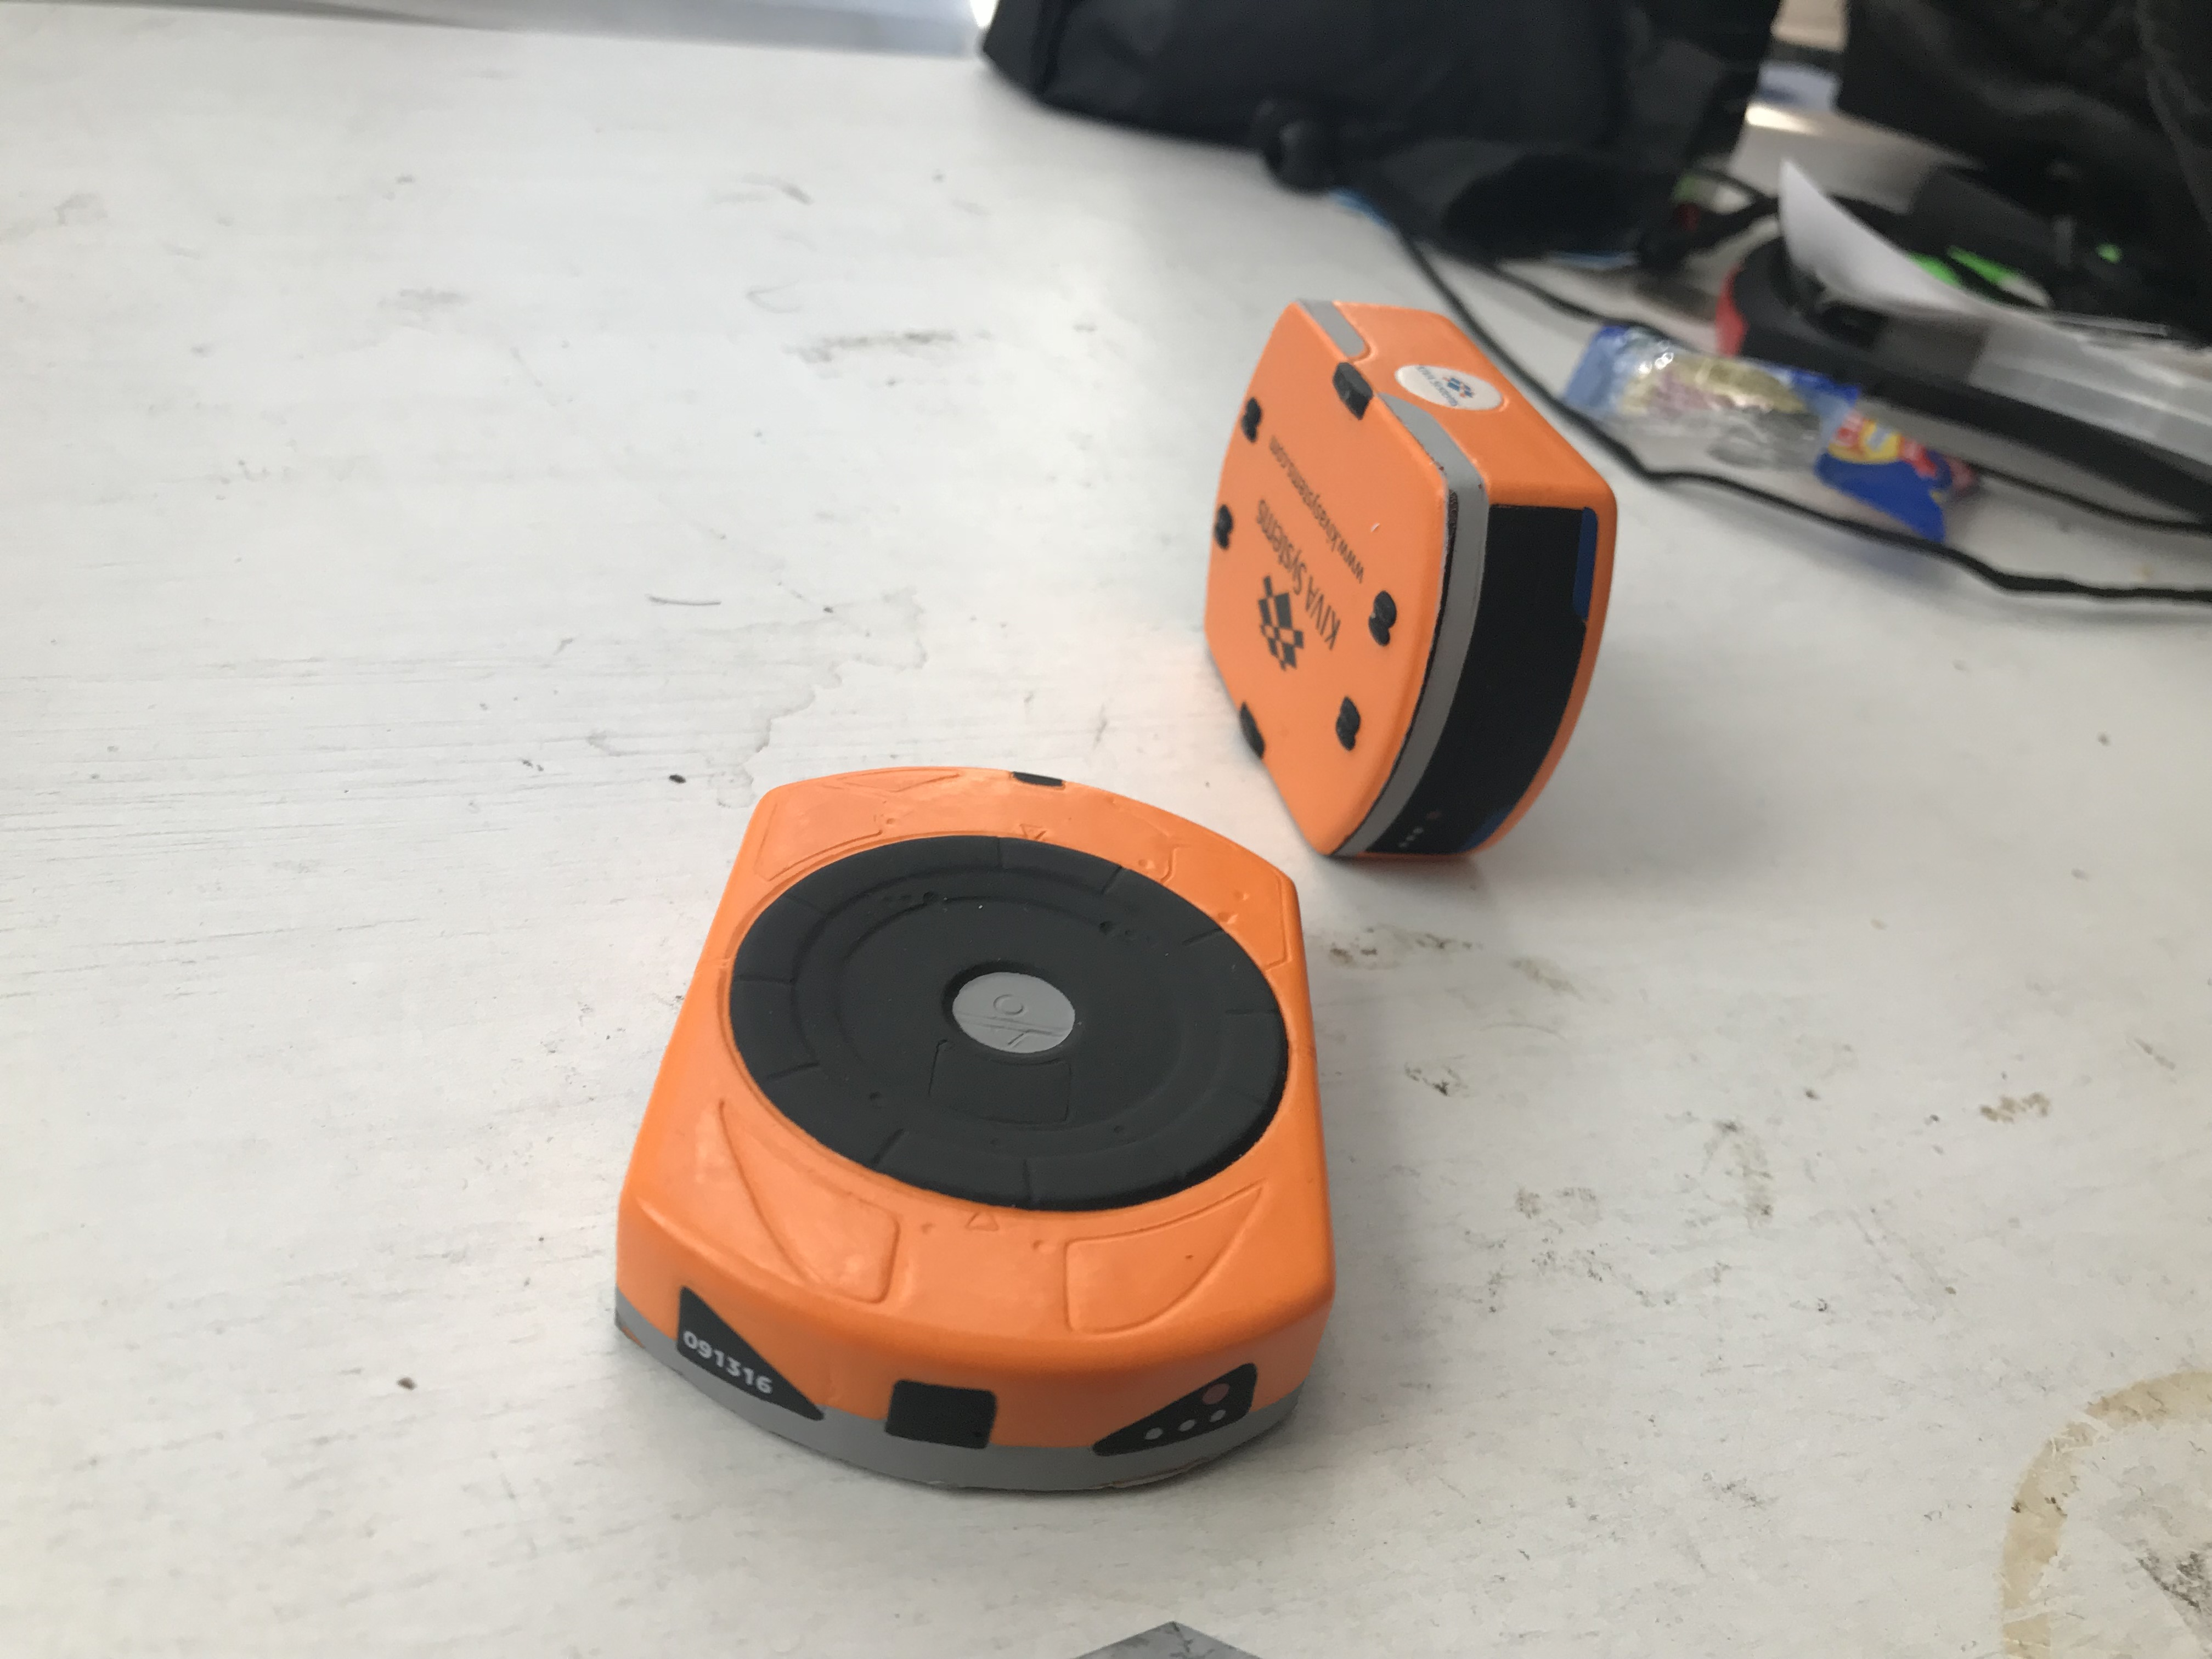amazon_bot: (597, 758, 1357, 1514), (1170, 267, 1646, 875)
